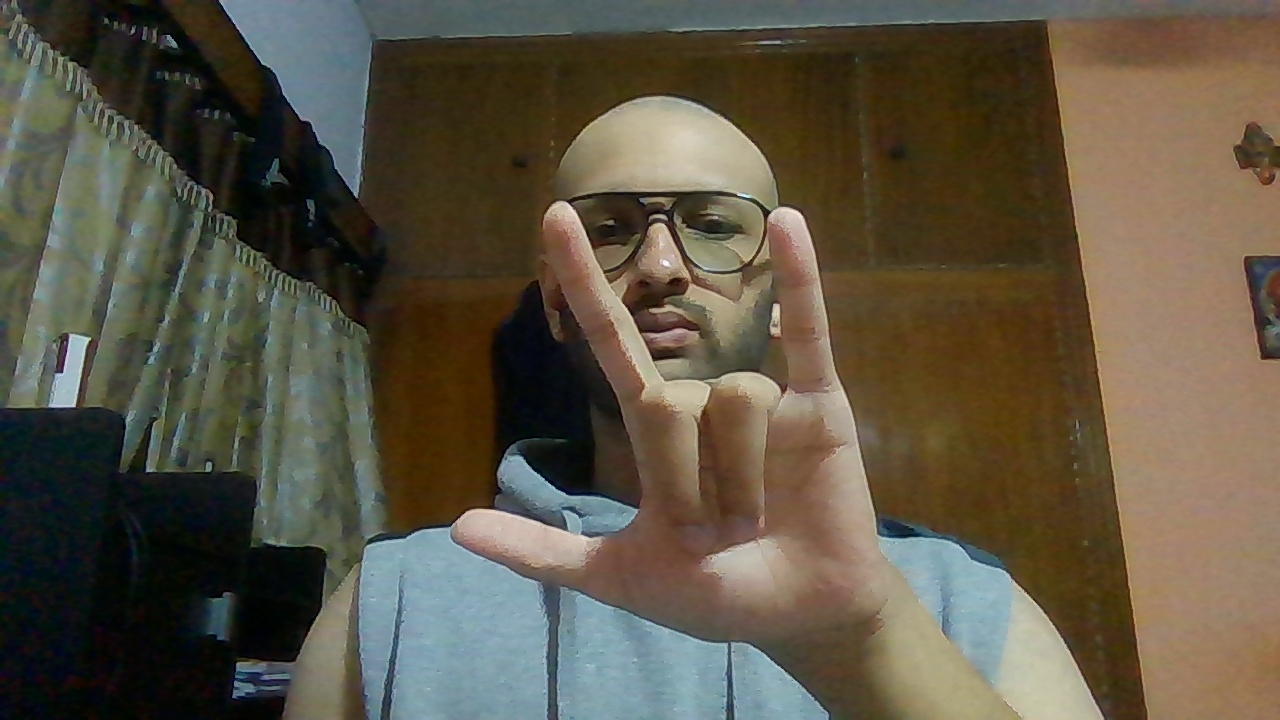I Love You: (446, 195, 888, 643)
